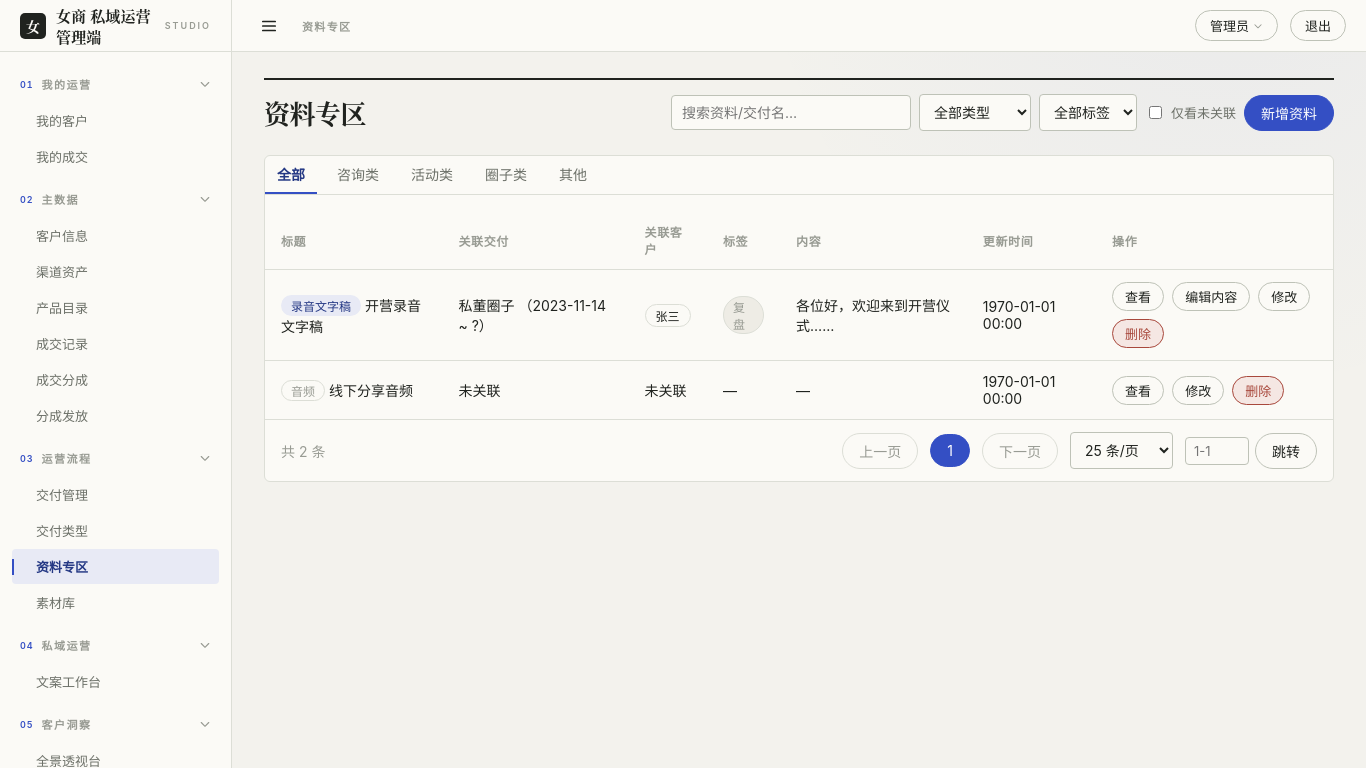
资料专区 › 新增资料：kind 切换 content/url 显隐；文本类 POST content、媒体类 POST url
Expected: the text "开营录音文字稿" is shown, [281,296,421,334]
Click the button "新增资料" at point(1289, 112), box [1244,94,1334,130]
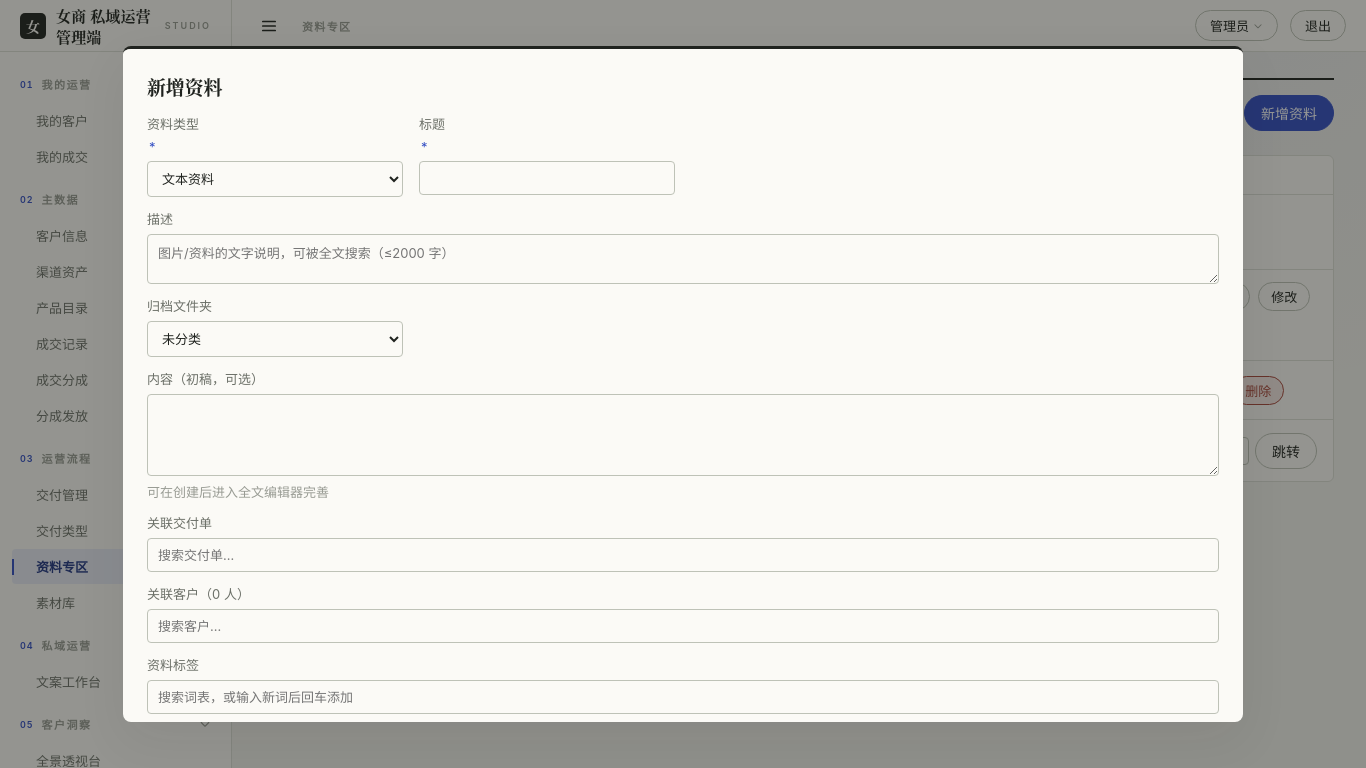
Expected: the text box labelled "内容（初稿，可选） 可在创建后进入全文编辑器完善" is shown, [147,394,1219,476]
Note: 填文本类字段 + 关联交付/客户（EntityPicker：搜索 → 点候选）
Type "复盘纪要" into the field labelled "标题 *" at point(547, 178), box [419,161,675,195]
Type "本周复盘正文" into the text box labelled "内容（初稿，可选） 可在创建后进入全文编辑器完善" at point(683, 435), box [147,394,1219,476]
Type "私董" into the search field named "关联交付单" at point(683, 555), box [147,538,1219,572]
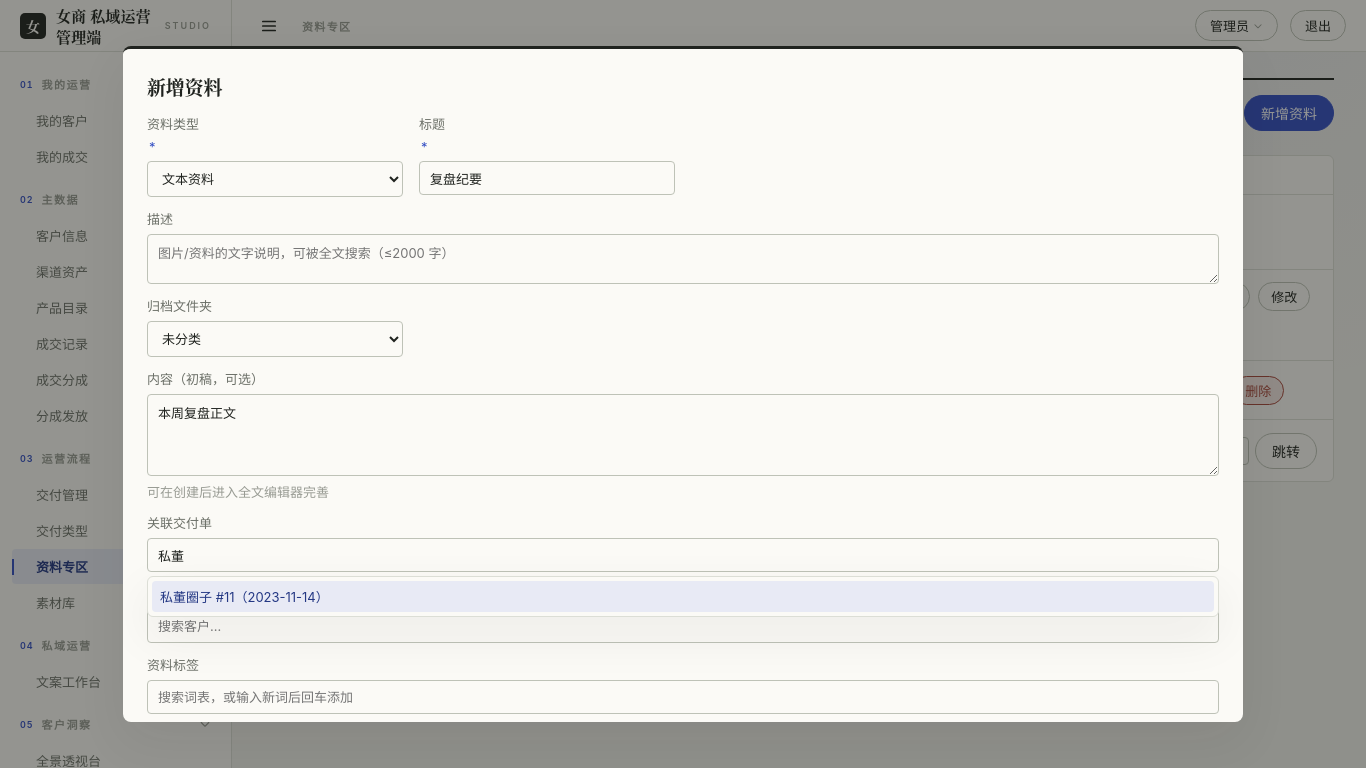
Press the mouse on the option "私董圈子 #11（2023-11-14）" at point(244, 597), box [152,581,1214,612]
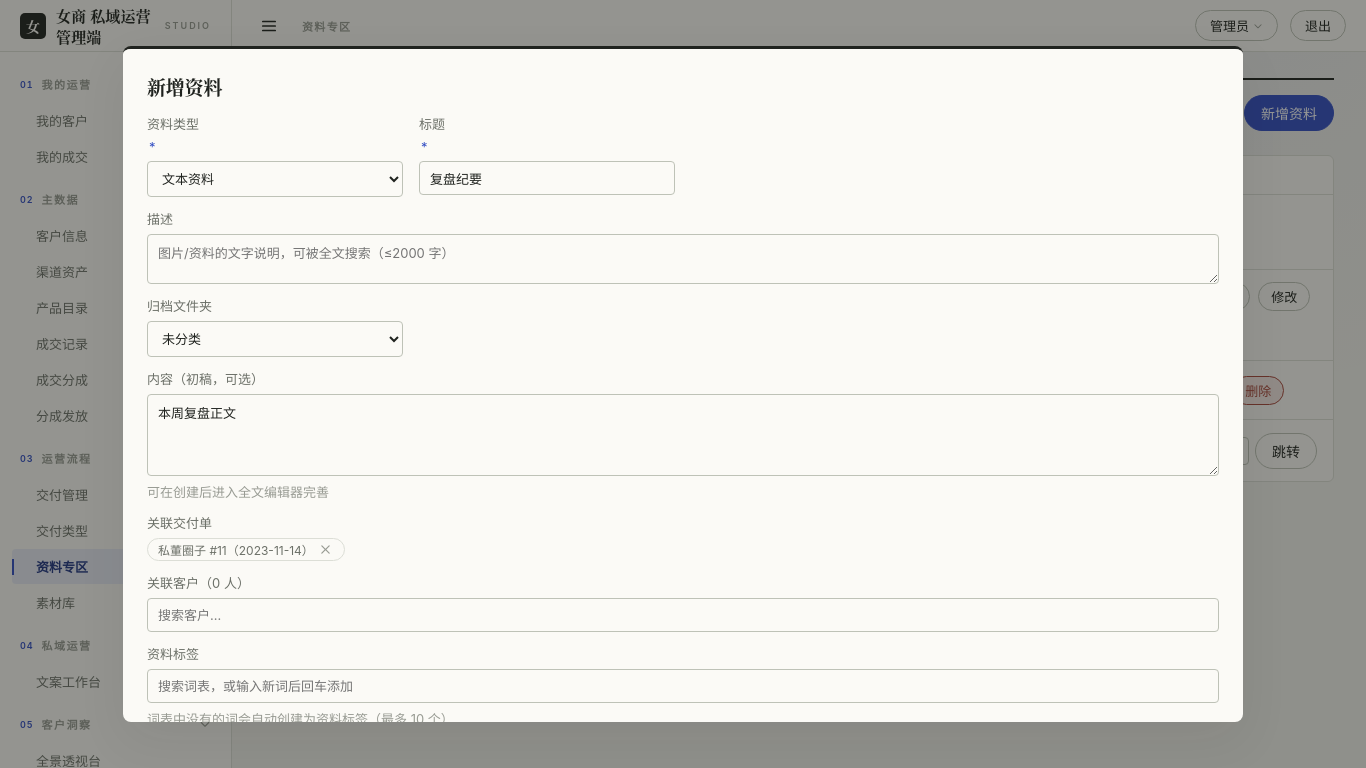
Type "张" into the search field labelled "搜索客户" at point(683, 615), box [147,598,1219,632]
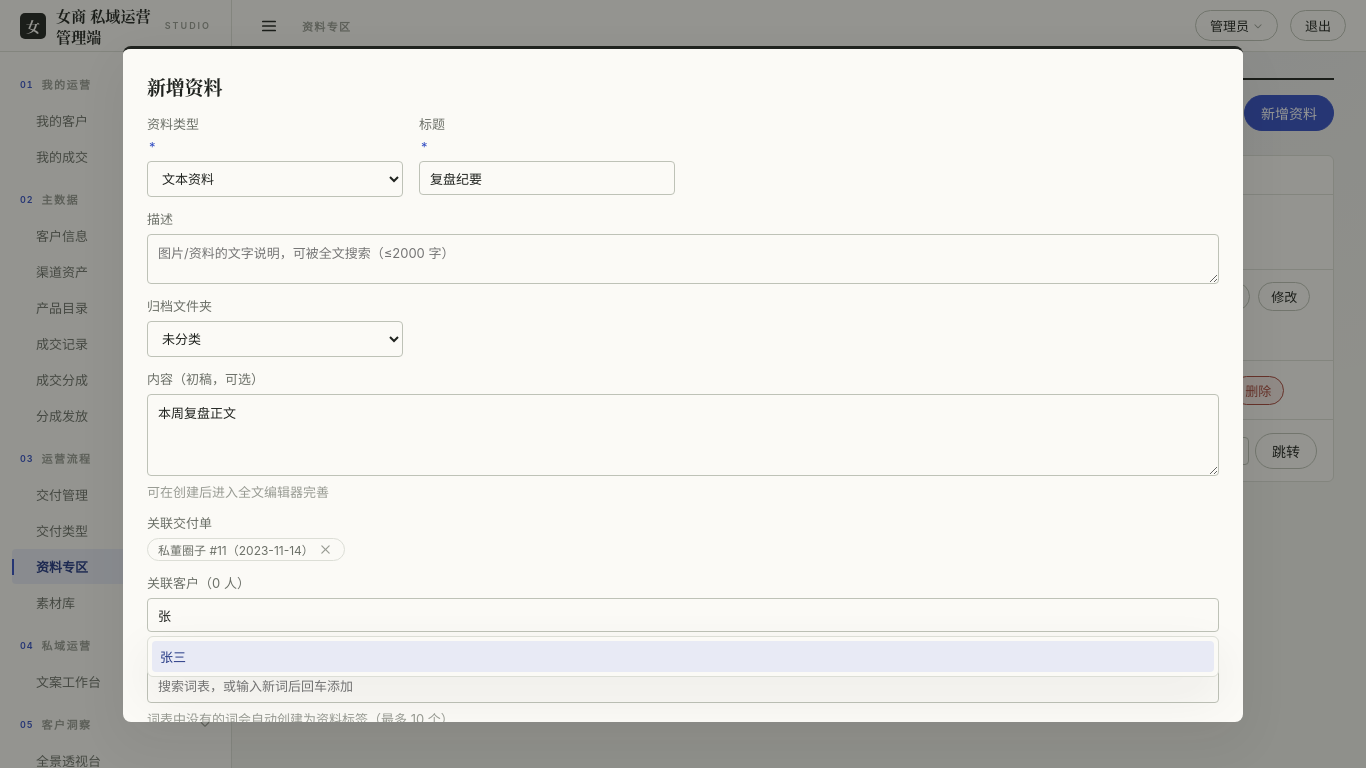
Press the mouse on the option "张三" at point(173, 657), box [152,641,1214,672]
(page scrolled)
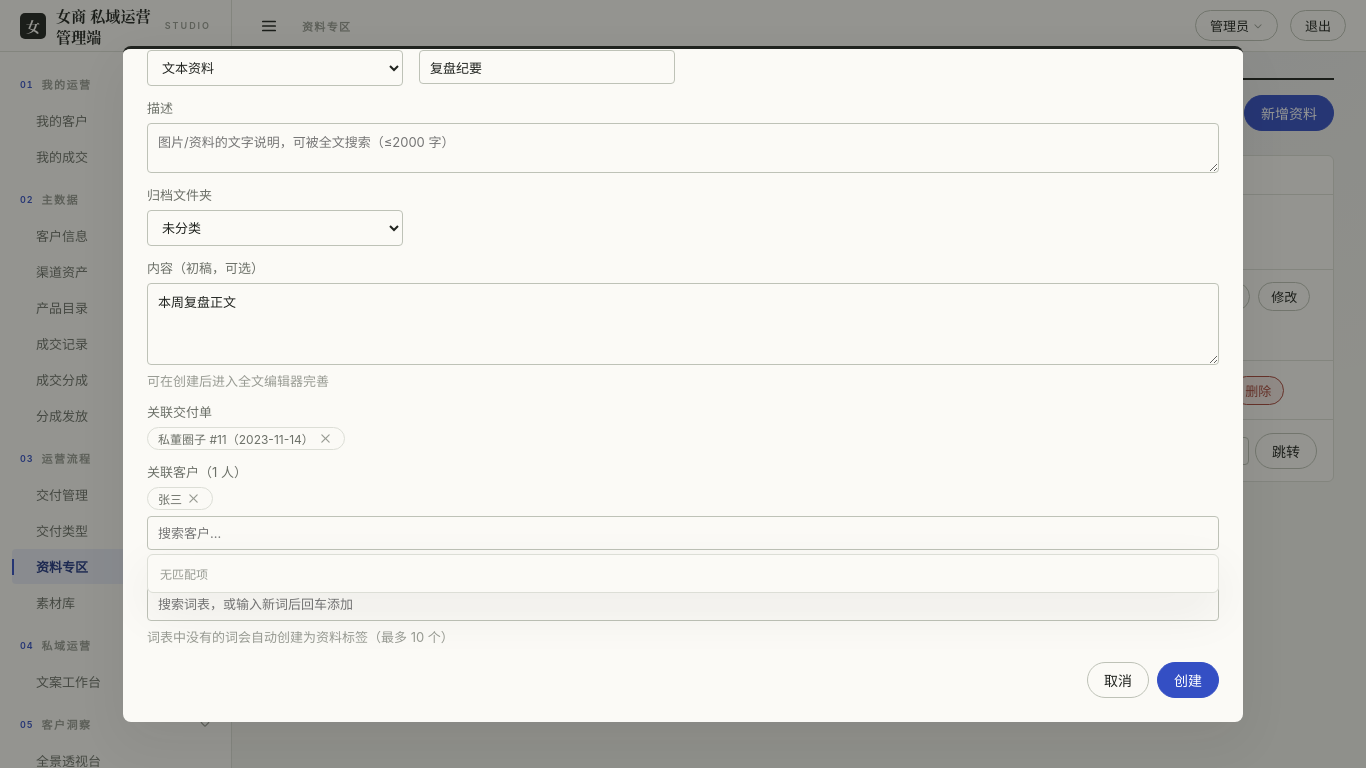
Click the button "创建" at point(1188, 680), box [1157,662,1219,698]
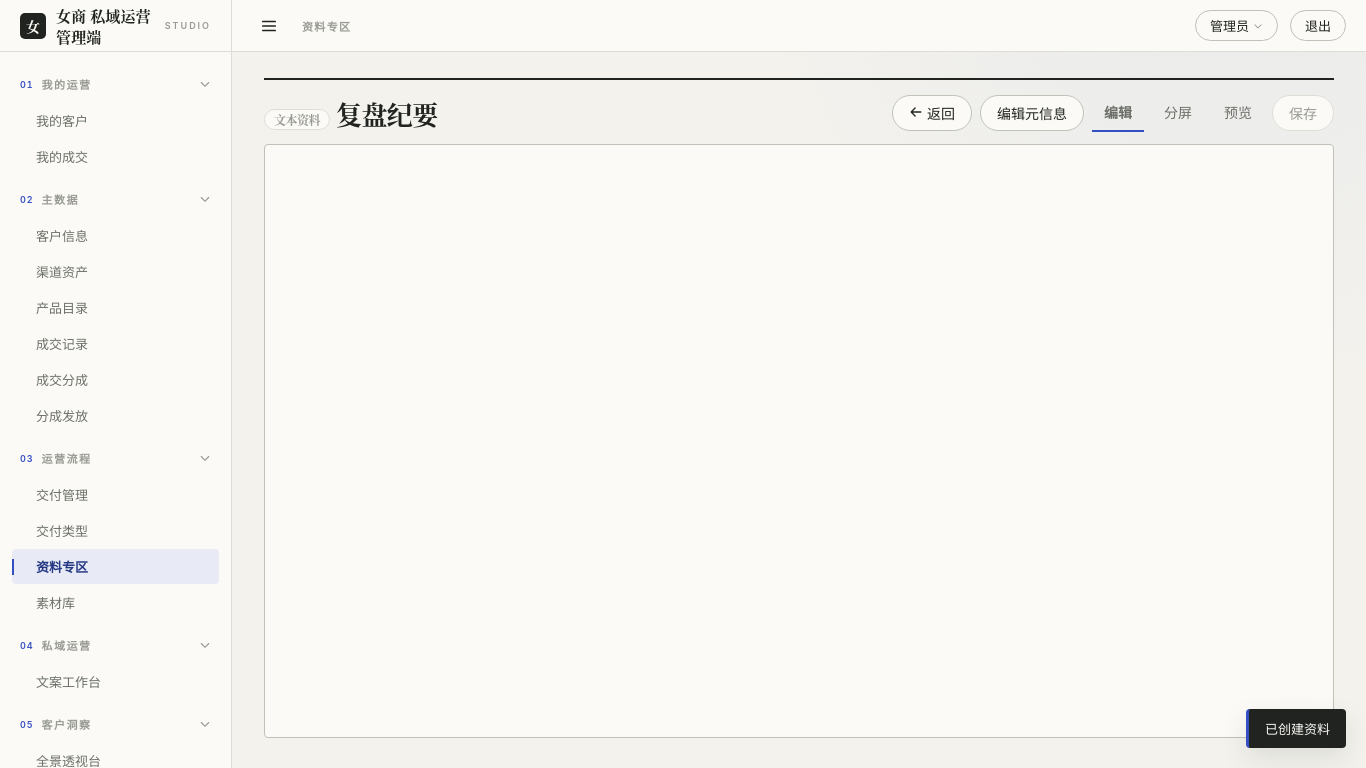
Expected: the text box named "正文内容" is shown
